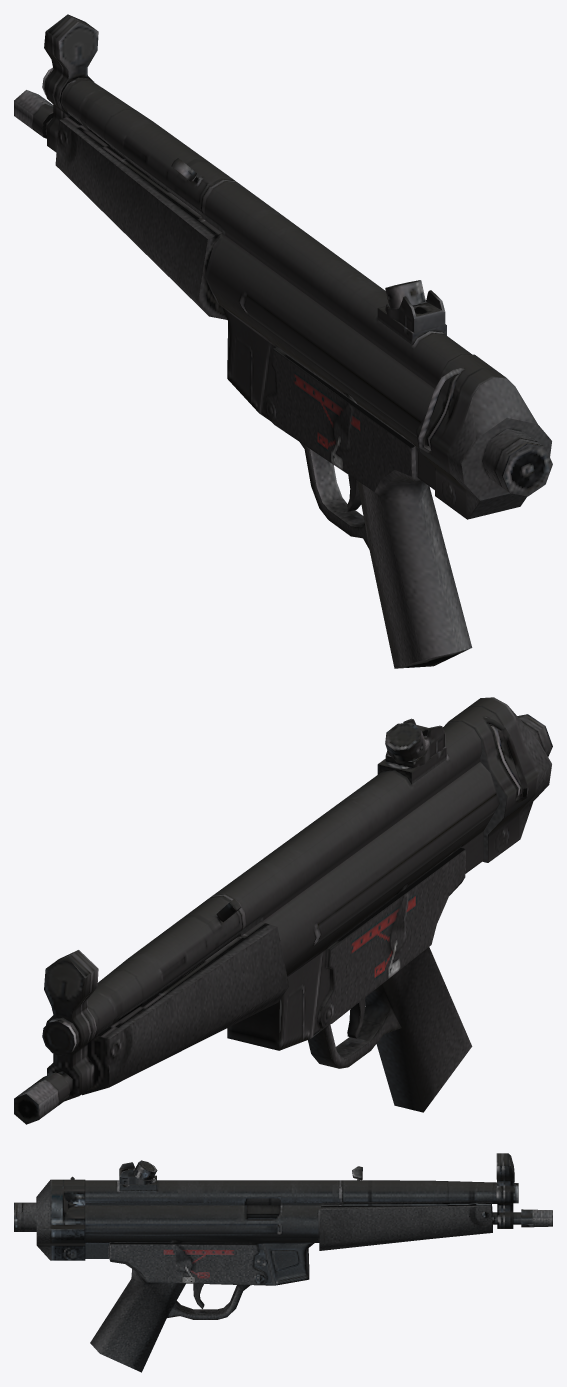
3 views of the same model, one above another, from view 1: azimuth 30°, elevation 25°; view 2: azimuth 150°, elevation 25°; view 3: azimuth 270°, elevation 25° (orthographic). The views are drawn at different scales.
Parts seen in each view (by area): view 1: MP5A1.004; view 2: MP5A1.004; view 3: MP5A1.004.
Part boxes in pixels (box(x1,y1,x2,y2)): MP5A1.004: box(14, 14, 552, 668); MP5A1.004: box(14, 697, 552, 1124); MP5A1.004: box(14, 1153, 552, 1372).
Bounding box in the file's own units: 0.0338 × 0.2922 × 0.129.
